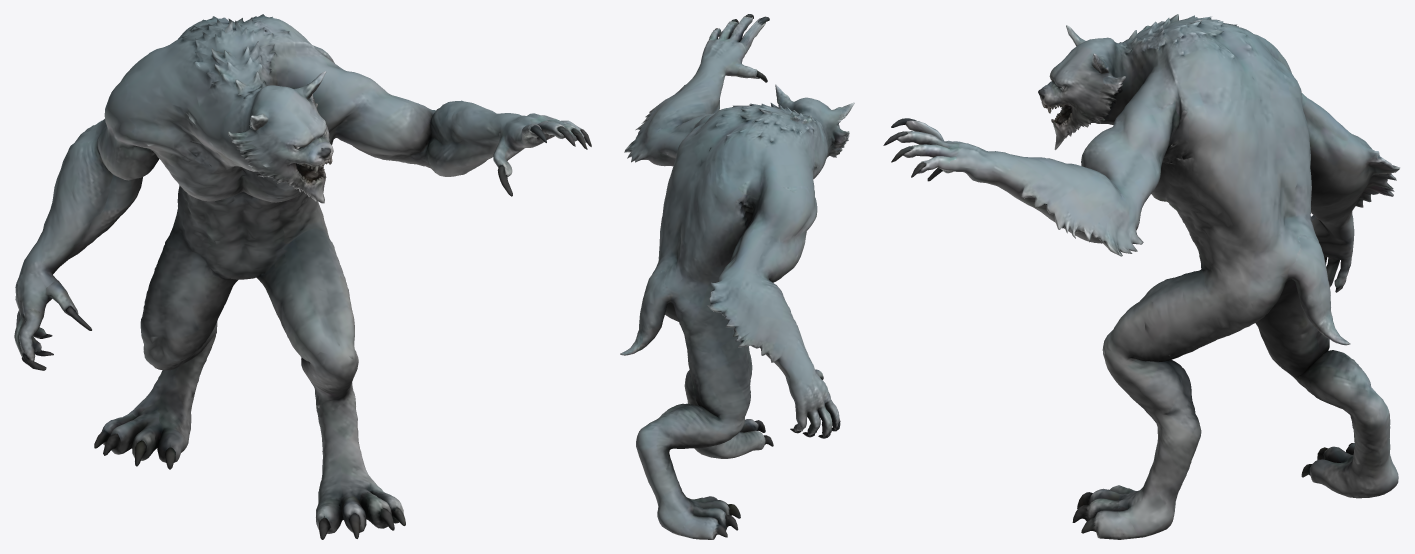
File: MZ4250 - Quaggoth_1 2025.glb
3 views of the same model, side by side, from view 1: azimuth 30°, elevation 25°; view 2: azimuth 150°, elevation 25°; view 3: azimuth 270°, elevation 25° (orthographic). The views are drawn at different scales.
Parts seen in each view (by area): view 1: Body.002; view 2: Body.002; view 3: Body.002.
Part boxes in pixels (bbox=[...]): Body.002: bbox=[14, 14, 591, 539]; Body.002: bbox=[620, 14, 854, 539]; Body.002: bbox=[883, 14, 1400, 539].
Size of the model in its own units: 79.6 by 98.55 by 98.53.
Materials: 1 (1 with a texture image).
